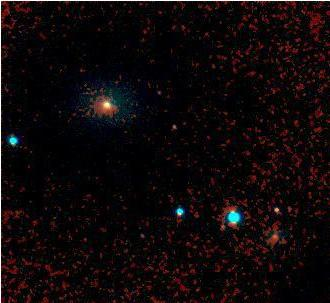star: (203, 211, 233, 241)
